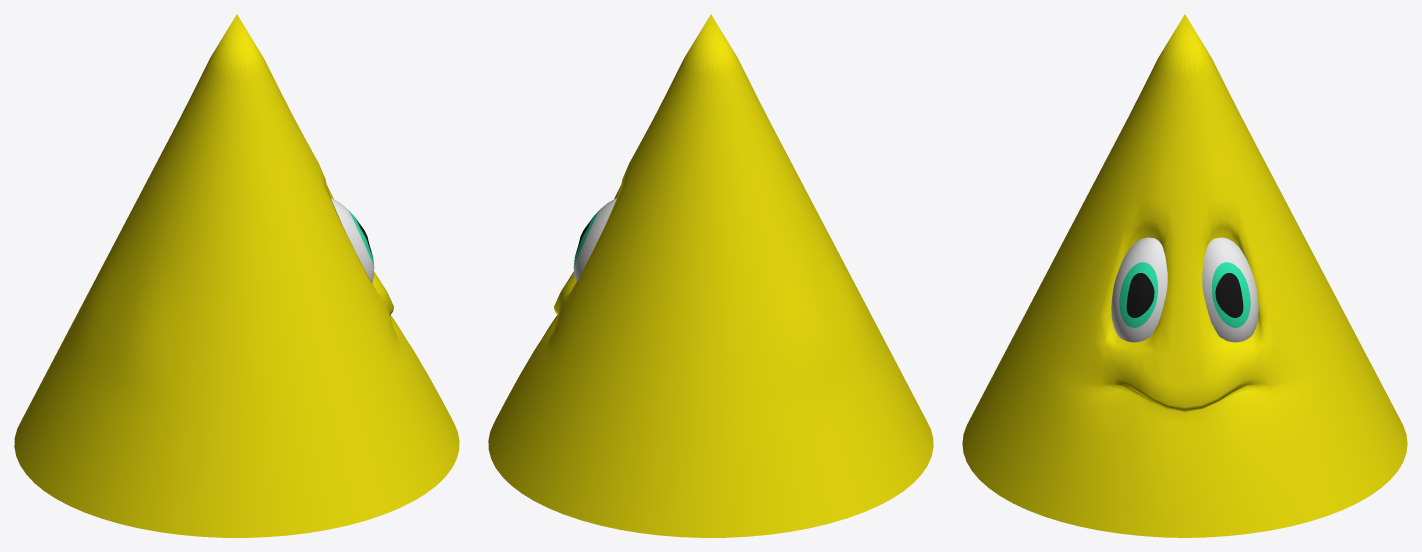
File: конус1.glb
The picture shows the model from 3 angles, left to right: view 1: azimuth 30°, elevation 25°; view 2: azimuth 150°, elevation 25°; view 3: azimuth 270°, elevation 25°; orthographic projection.
Visible parts, largest first — view 1: Circle, Sphere; view 2: Circle, Sphere; view 3: Circle, Sphere.
Part boxes in pixels (box(x1,y1,x2,y2)): Circle: box(14, 14, 459, 537); Sphere: box(331, 198, 374, 283); Circle: box(488, 14, 933, 537); Sphere: box(573, 198, 616, 283); Circle: box(962, 14, 1407, 537); Sphere: box(1111, 237, 1258, 342).
Bounding box in the file's own units: 1.99 × 2.12 × 1.99.
